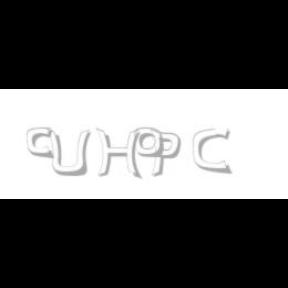C: (194, 128, 231, 174)
H: (96, 128, 142, 180)
P: (149, 128, 181, 178)
U: (46, 128, 90, 178)
c: (26, 128, 55, 160)
o: (134, 128, 162, 158)
